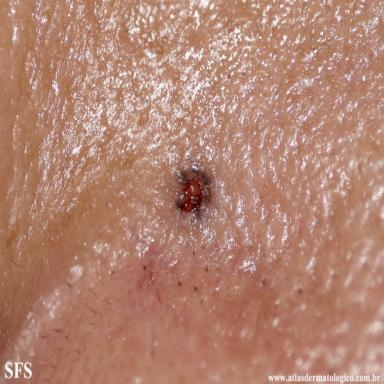basal-cell-carcinoma: (176, 166, 211, 219)
